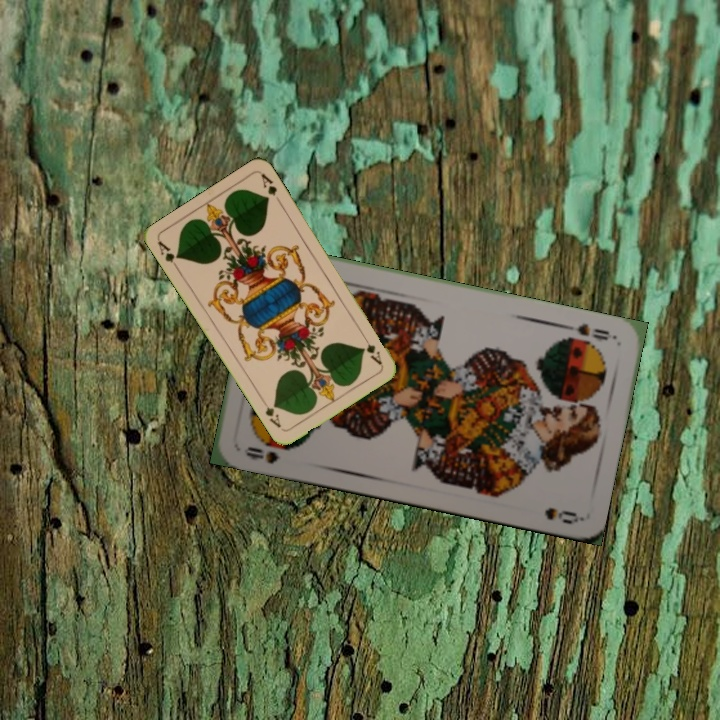GA: (154, 237, 182, 273), (358, 330, 385, 367)
SO: (560, 319, 612, 343), (240, 442, 282, 467)
